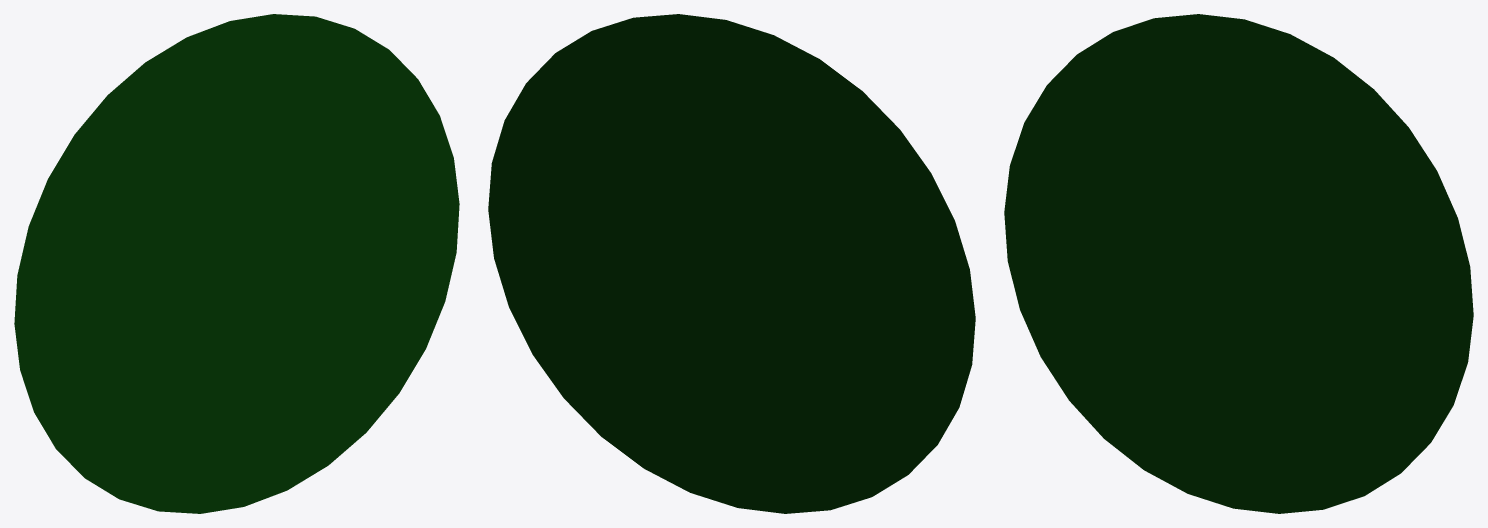
File: ButtonsGlass_MouseGreenBack_0.dae
3 renders of one model, left to right at view 1: azimuth 30°, elevation 25°; view 2: azimuth 150°, elevation 25°; view 3: azimuth 330°, elevation 25°, orthographic. The views are drawn at different scales.
Visible parts, largest first — view 1: ButtonsGlass_MouseGreenBack_0; view 2: ButtonsGlass_MouseGreenBack_0; view 3: ButtonsGlass_MouseGreenBack_0.
Boxes of the visible parts, x1=… form: ButtonsGlass_MouseGreenBack_0: x1=14, y1=14, x2=459, y2=513; ButtonsGlass_MouseGreenBack_0: x1=488, y1=14, x2=975, y2=513; ButtonsGlass_MouseGreenBack_0: x1=1004, y1=14, x2=1473, y2=513.
Size of the model in its own units: 0.00742 by 0.00742 by 0.000469.
